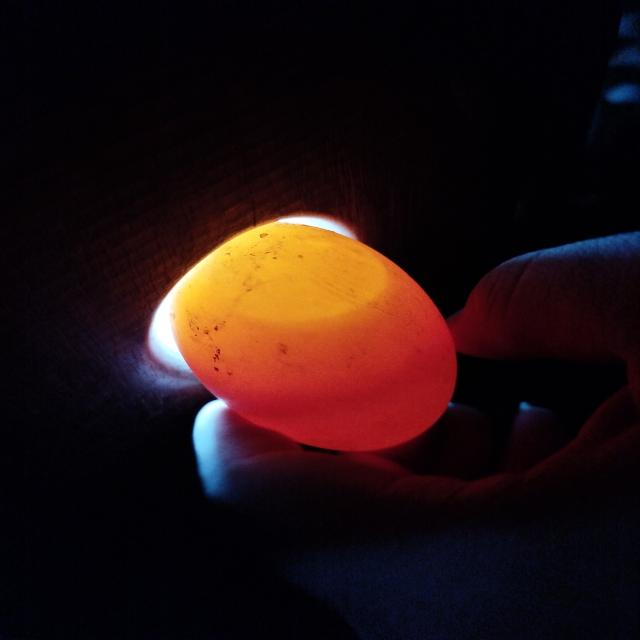Camara de Ar: (175, 222, 386, 320)
